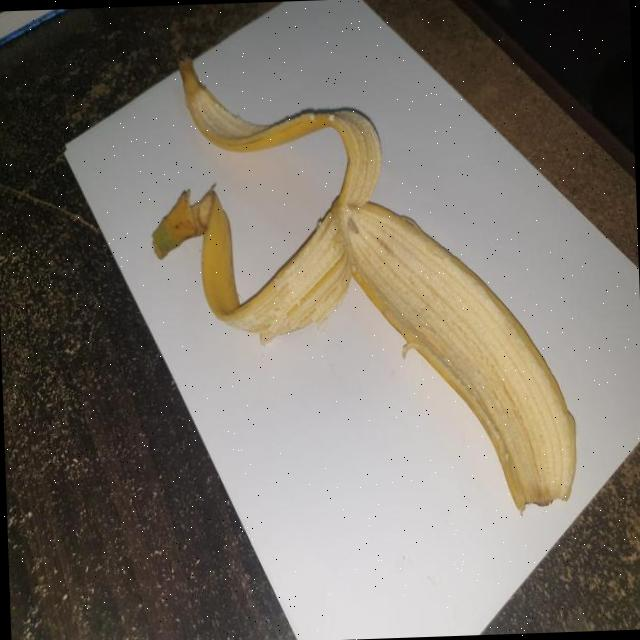banana-peel: (144, 42, 580, 526)
